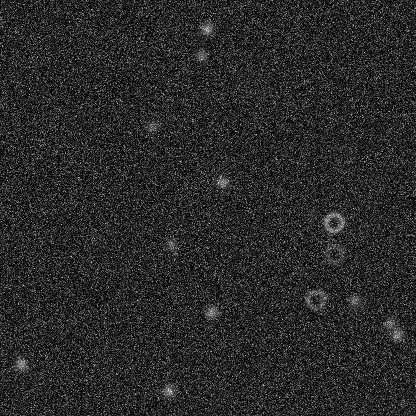Ring: (322, 242, 346, 266), (321, 210, 345, 234), (331, 142, 355, 166), (303, 287, 327, 311)
Spot: (199, 20, 215, 36), (346, 292, 362, 308), (381, 315, 397, 331), (193, 47, 209, 63), (160, 382, 176, 398), (162, 236, 178, 252), (214, 174, 230, 190), (203, 304, 219, 320), (87, 226, 103, 242), (388, 327, 404, 343), (303, 206, 319, 222), (144, 117, 160, 133), (13, 356, 29, 372)
